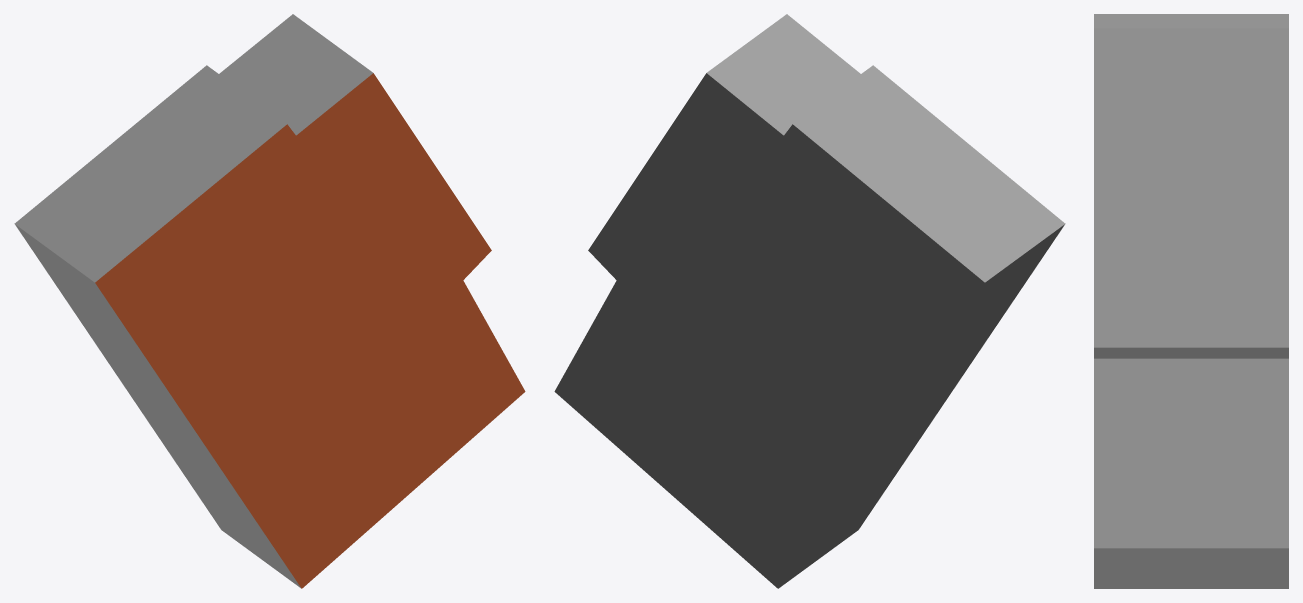
Rendered from construction_6131_assumed_A_Casa_h6m.obj.
The picture shows the model from 3 angles, left to right: view 1: azimuth 30°, elevation 25°; view 2: azimuth 150°, elevation 25°; view 3: azimuth 270°, elevation 25°; orthographic projection. The views are drawn at different scales.
Parts seen in each view (by area): view 1: construction_6131_assumed_A_Casa; view 2: construction_6131_assumed_A_Casa; view 3: construction_6131_assumed_A_Casa.
Boxes of the visible parts, box(x1,y1,x2,y2) form: construction_6131_assumed_A_Casa: box(14, 14, 525, 588); construction_6131_assumed_A_Casa: box(554, 14, 1065, 588); construction_6131_assumed_A_Casa: box(1094, 14, 1288, 588).
Size of the model in its own units: 18.52 by 20.49 by 6.
